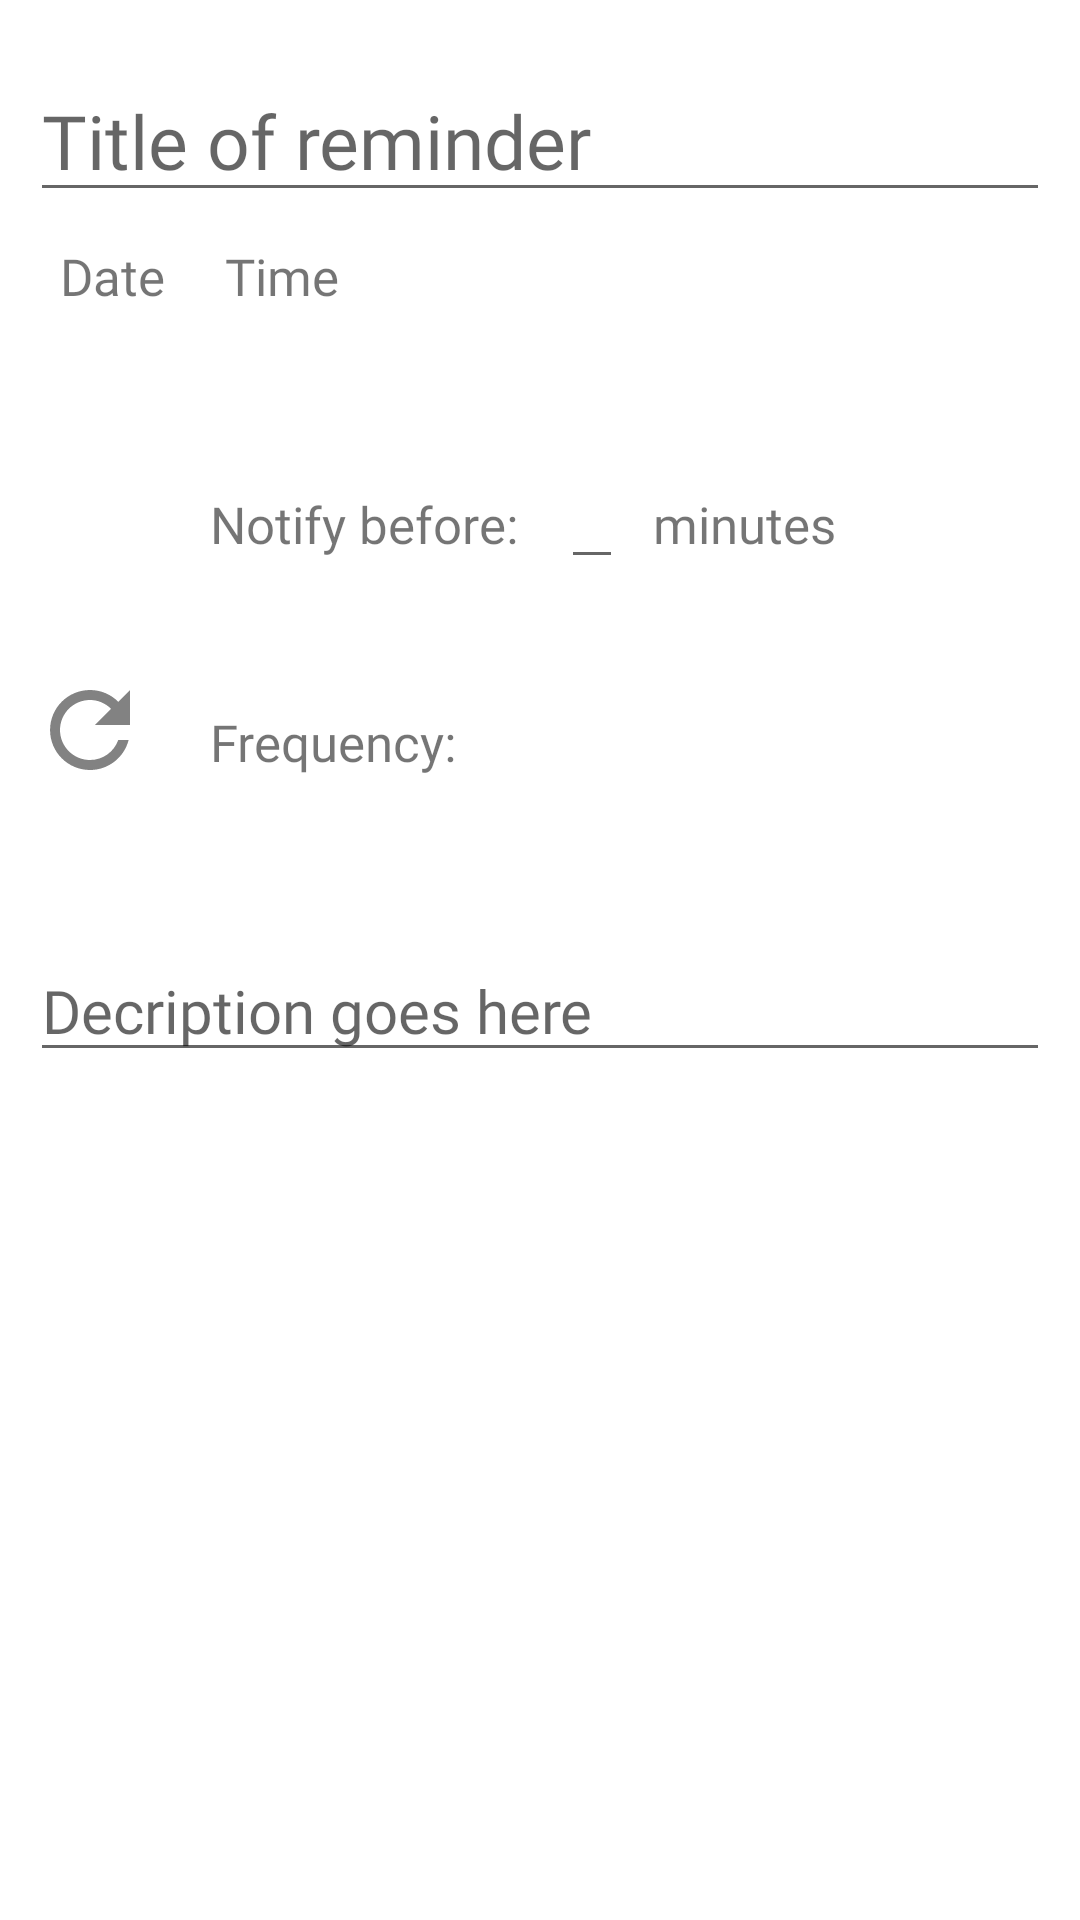

Screen size 1080px x 1920px. Icon name, then its box in pixels as (x1, y1, x2, y2):
refresh: (50, 690, 130, 770)
